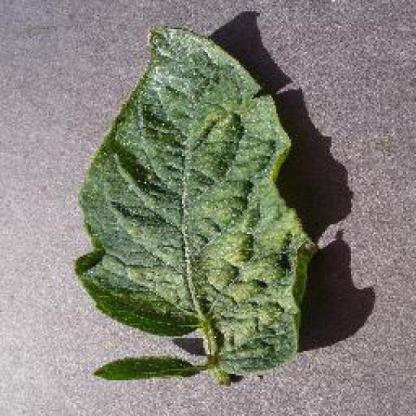Tomato_Spider_Mites: (77, 27, 312, 378)
